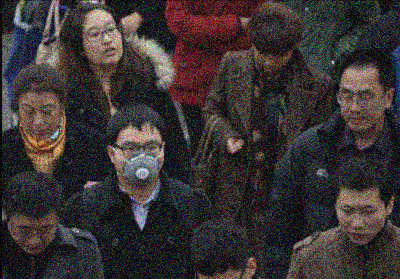with_mask: (114, 136, 165, 186)
without_mask: (336, 198, 384, 245), (338, 82, 384, 131), (82, 17, 124, 68), (6, 217, 60, 256), (19, 98, 62, 139), (254, 47, 289, 73)
